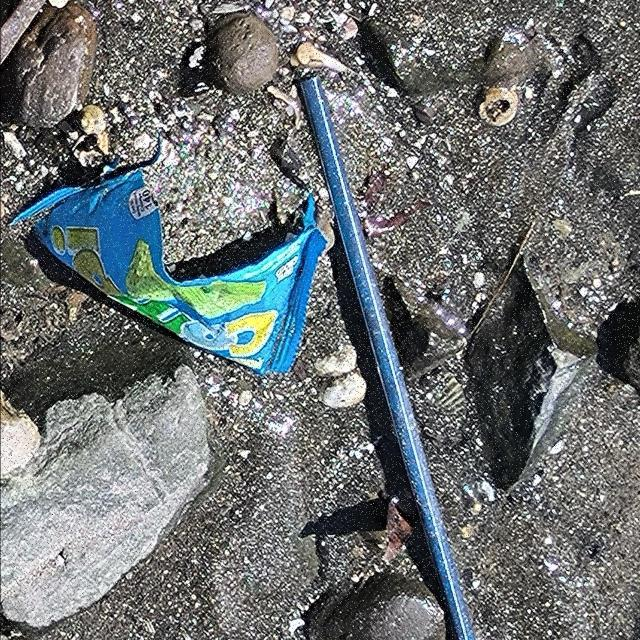plastic_waste: (293, 71, 476, 640), (4, 167, 330, 379)
